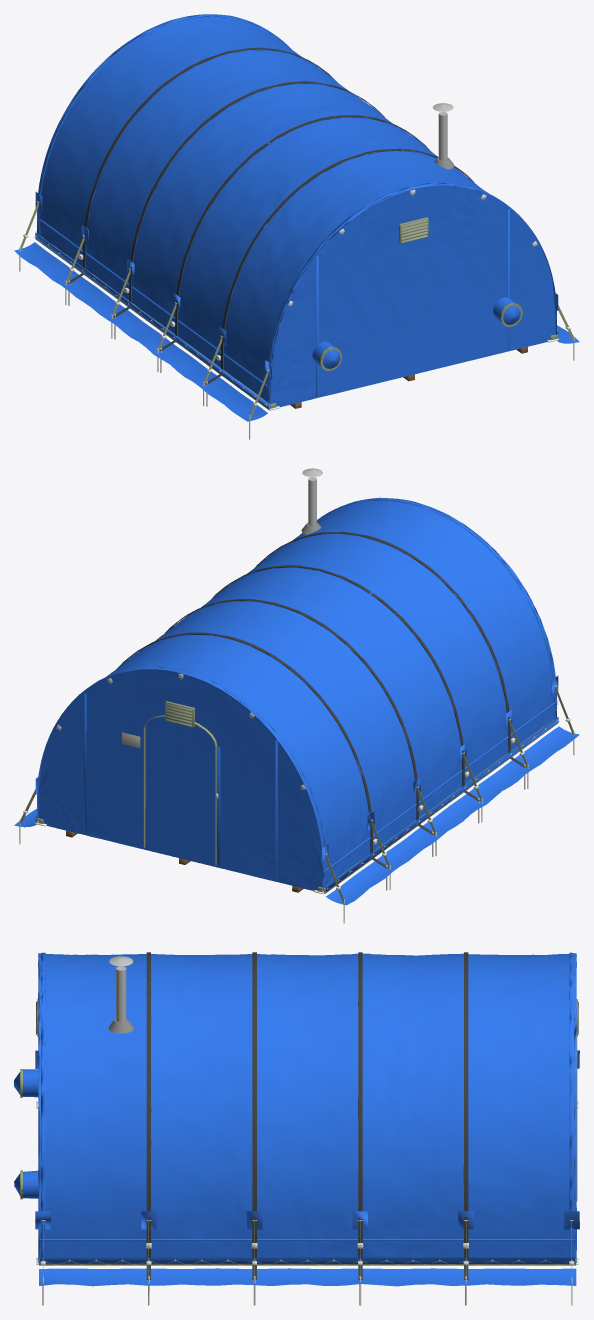
File: polarhaven-camp.glb
3 views of the same model, one above another, from view 1: azimuth 30°, elevation 25°; view 2: azimuth 150°, elevation 25°; view 3: azimuth 270°, elevation 25° (orthographic). The views are drawn at different scales.
Visible parts, largest first — view 1: POLARHAVEN_shelter; view 2: POLARHAVEN_shelter; view 3: POLARHAVEN_shelter.
Boxes of the visible parts, x1,y1,x2,y2 form: POLARHAVEN_shelter: (14,14,579,439); POLARHAVEN_shelter: (14,468,579,923); POLARHAVEN_shelter: (14,952,579,1305).
Bounding box in the file's own units: 5.09 × 3.74 × 6.53.
